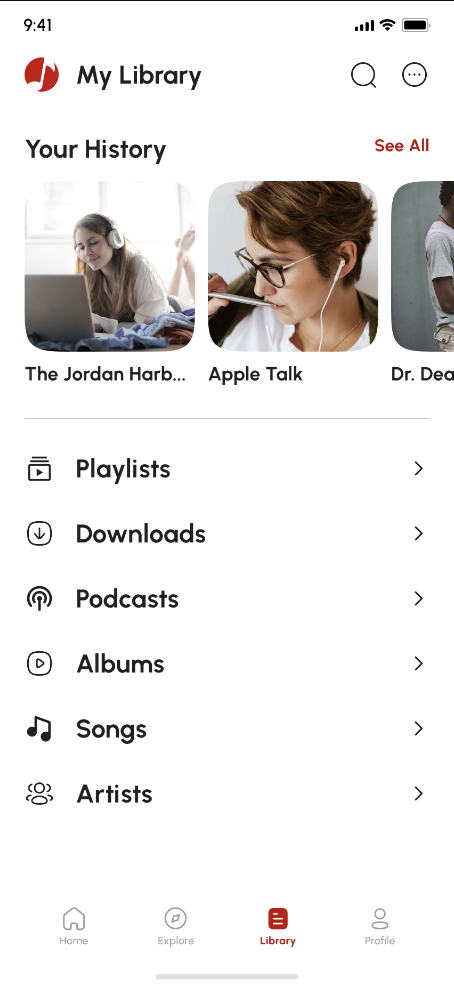AppBar: (1, 34, 454, 100)
BottomBar: (1, 900, 454, 981)
IconButton: (347, 56, 381, 95), (398, 56, 431, 93)
